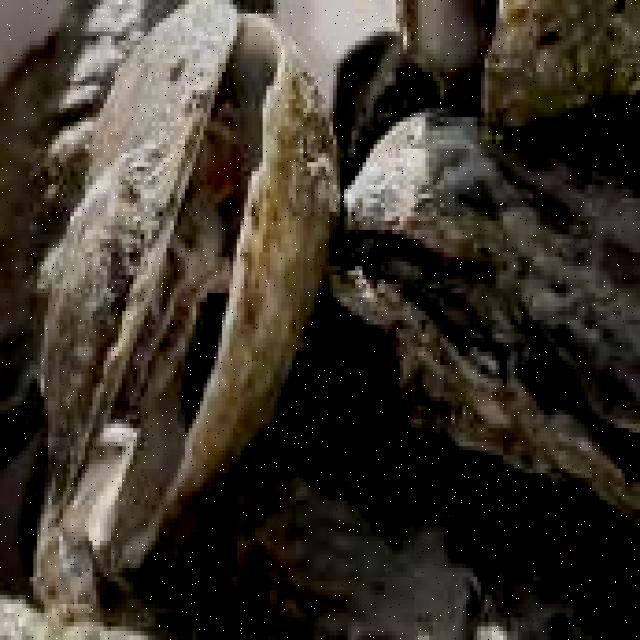Oyster-Open: (31, 5, 341, 622), (330, 111, 640, 529), (236, 422, 468, 614), (363, 0, 640, 128)
